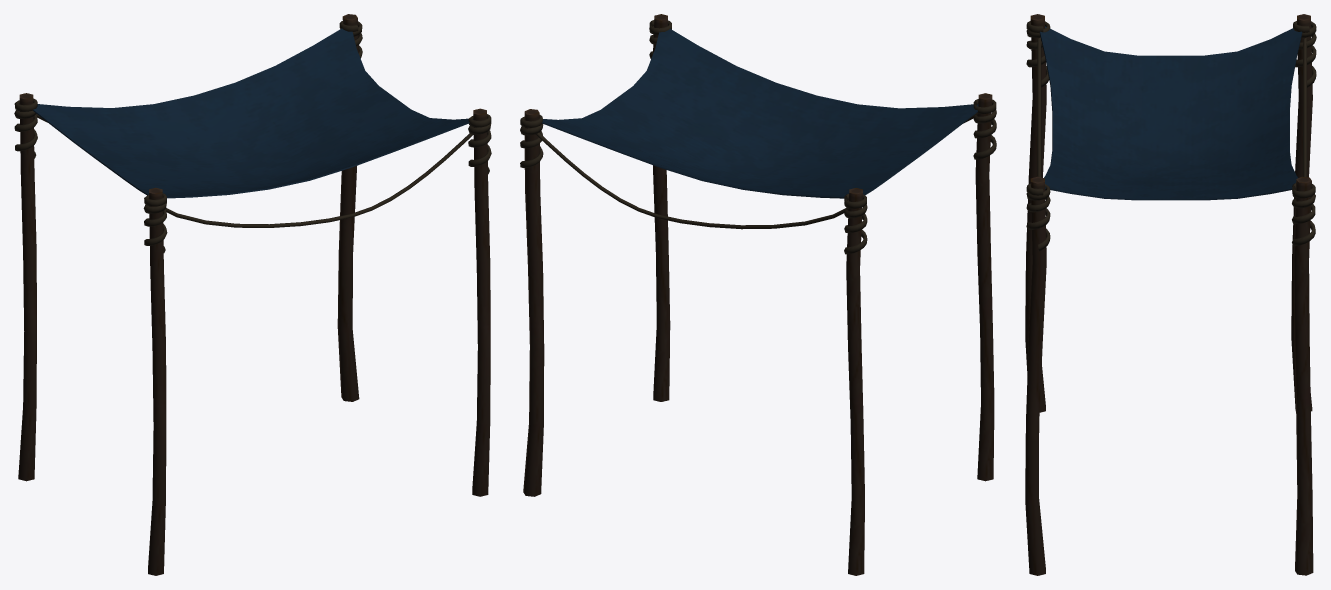
The model's file is Tent2.FBX.
3 views of the same model, side by side, from view 1: azimuth 30°, elevation 25°; view 2: azimuth 150°, elevation 25°; view 3: azimuth 270°, elevation 25° (orthographic). The views are drawn at different scales.
Visible parts, largest first — view 1: Tent2; view 2: Tent2; view 3: Tent2.
Part boxes in pixels (x1,y1,x2,y2): Tent2: (14, 14, 491, 575); Tent2: (520, 14, 996, 575); Tent2: (1025, 14, 1316, 575).
Bounding box in the file's own units: 5.71 × 6.03 × 4.07.
